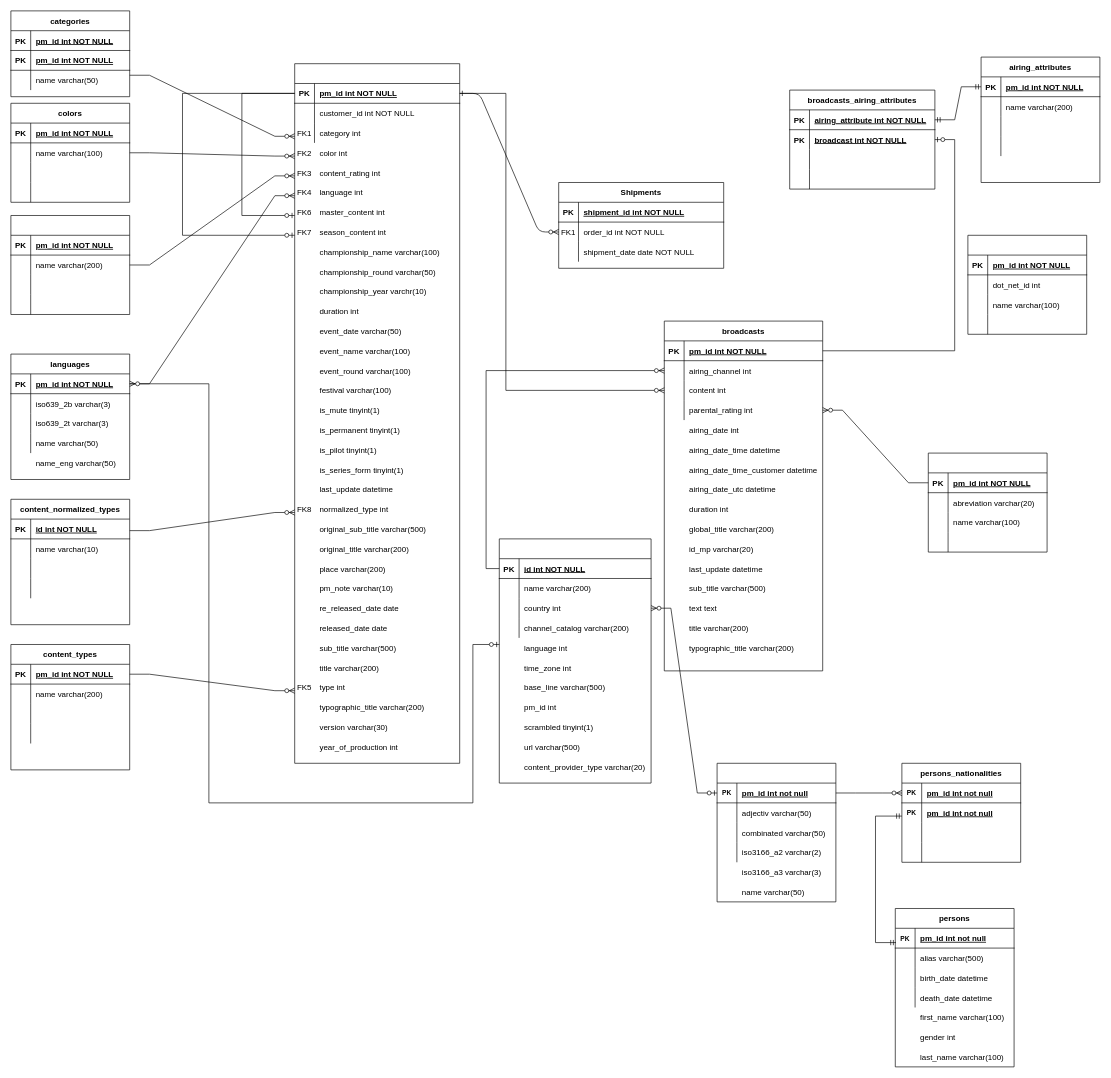
Some shapes in this 1111 by 1078 pixel diagram are drawn without their labels. Here are the shapes that lost their labels. From the top down, the box of each, then its label:
(10, 215, 130, 314): content_ratings
(967, 235, 1087, 334): api_time_zones
(294, 63, 460, 763): contents
(928, 452, 1047, 552): parental_ratings
(499, 538, 651, 783): content_providers
(716, 763, 836, 902): countries
